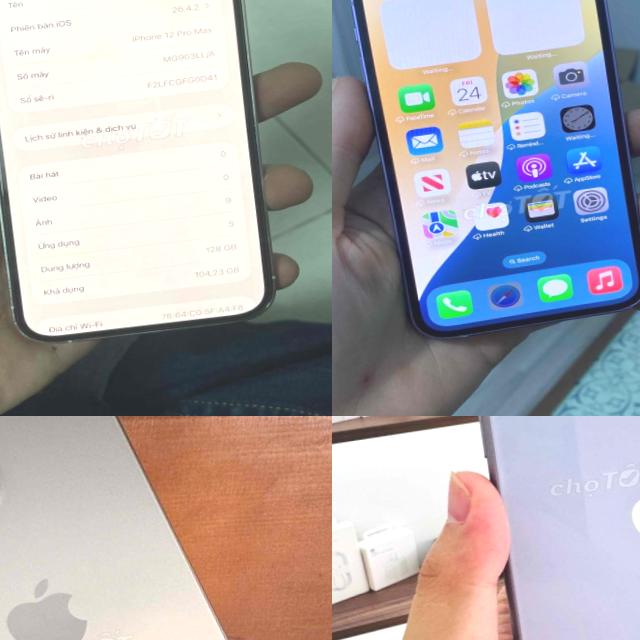scratch: (0, 267, 28, 330)
